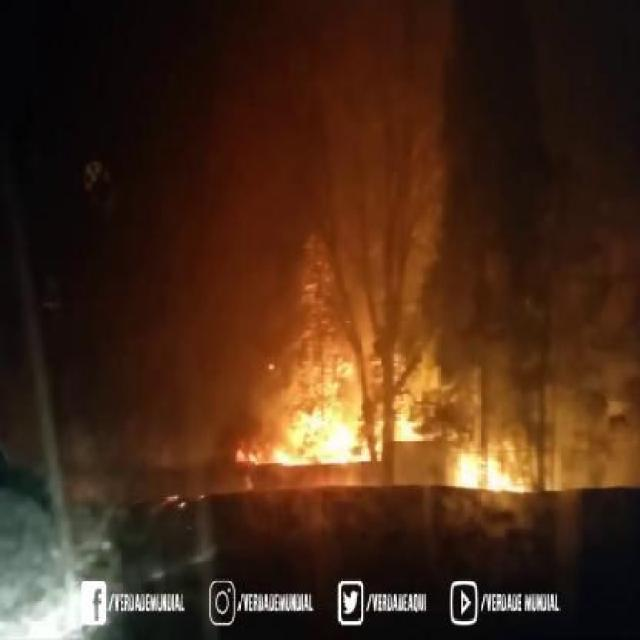Fire: (226, 329, 388, 466), (452, 444, 530, 490), (392, 382, 434, 440)
